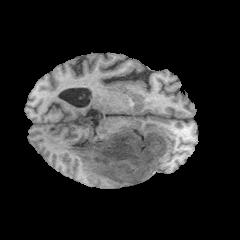glioma: (50, 127, 175, 187)
